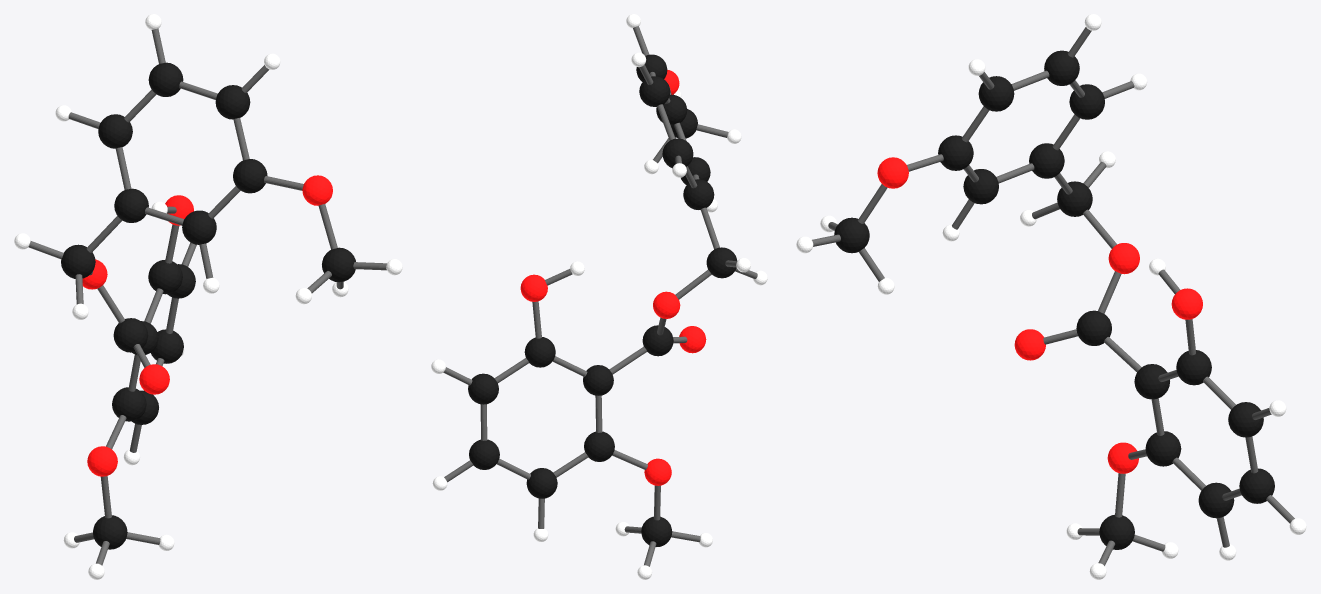
The model's file is molecule.glb.
The picture shows the model from 3 angles, left to right: view 1: azimuth 30°, elevation 25°; view 2: azimuth 150°, elevation 25°; view 3: azimuth 270°, elevation 25°; orthographic projection. The views are drawn at different scales.
Parts seen in each view (by area): view 1: geometry_5, geometry_20, geometry_3, geometry_4, geometry_6, geometry_2, geometry_7, geometry_12, geometry_9, geometry_17, geometry_0, geometry_19 (+4 smaller); view 2: geometry_12, geometry_15, geometry_16, geometry_17, geometry_11, geometry_14, geometry_4, geometry_6, geometry_19, geometry_9, geometry_7, geometry_5 (+7 smaller); view 3: geometry_9, geometry_2, geometry_6, geometry_15, geometry_4, geometry_17, geometry_12, geometry_0, geometry_14, geometry_16, geometry_19, geometry_5 (+9 smaller).
Part boxes in pixels (x1,y1,x2,y2): geometry_5: (98, 114, 132, 148); geometry_20: (182, 210, 216, 244); geometry_3: (215, 85, 250, 119); geometry_4: (148, 62, 183, 96); geometry_6: (114, 188, 148, 222); geometry_2: (233, 159, 267, 193); geometry_7: (61, 244, 95, 278); geometry_12: (148, 260, 182, 294); geometry_9: (113, 318, 148, 352); geometry_17: (112, 387, 146, 421); geometry_0: (322, 247, 355, 282); geometry_19: (93, 515, 127, 549); geometry_12: (524, 337, 555, 367); geometry_15: (469, 439, 499, 469); geometry_16: (526, 468, 557, 498); geometry_17: (584, 431, 614, 461); geometry_11: (583, 365, 613, 395); geometry_14: (468, 373, 498, 404); geometry_4: (639, 76, 670, 106); geometry_6: (683, 179, 714, 209); geometry_19: (641, 516, 672, 546); geometry_9: (642, 325, 673, 356); geometry_7: (706, 247, 737, 278); geometry_5: (662, 138, 693, 168); geometry_9: (1076, 310, 1111, 345); geometry_2: (938, 135, 973, 170); geometry_6: (1029, 143, 1064, 178); geometry_15: (1239, 468, 1274, 503); geometry_4: (1044, 50, 1079, 85); geometry_17: (1145, 431, 1181, 466); geometry_12: (1176, 350, 1211, 385); geometry_0: (834, 217, 869, 253); geometry_14: (1228, 402, 1263, 437); geometry_16: (1198, 482, 1234, 518); geometry_19: (1099, 514, 1134, 549); geometry_5: (1069, 84, 1104, 119).
Bounding box in the file's own units: 0.1332 × 0.257 × 0.2101.
